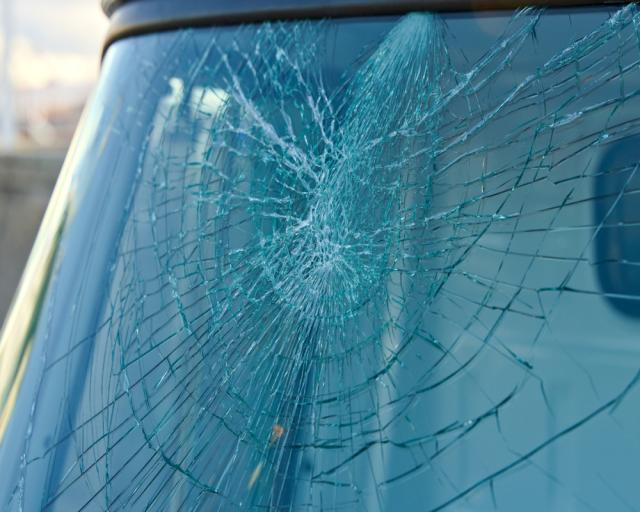glass shatter: (0, 0, 640, 512)
